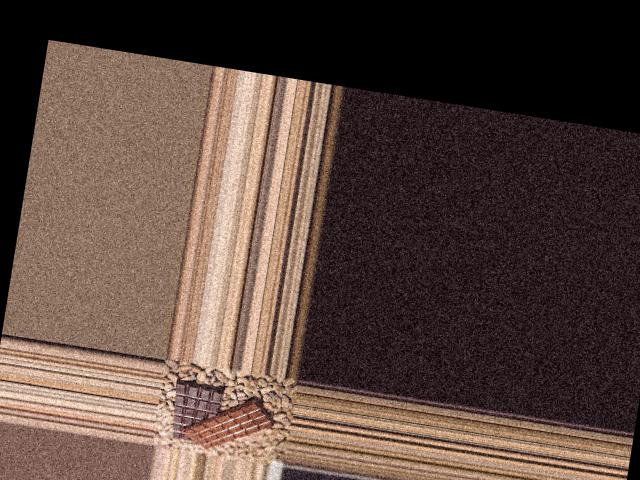chocolate: (161, 375, 224, 448)
